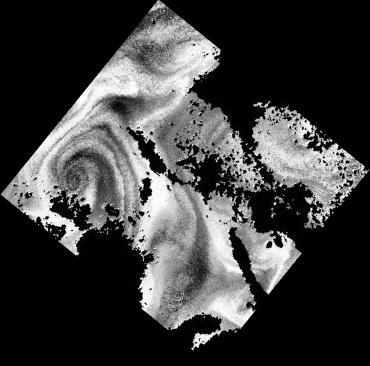CE: (40, 133, 131, 218)
